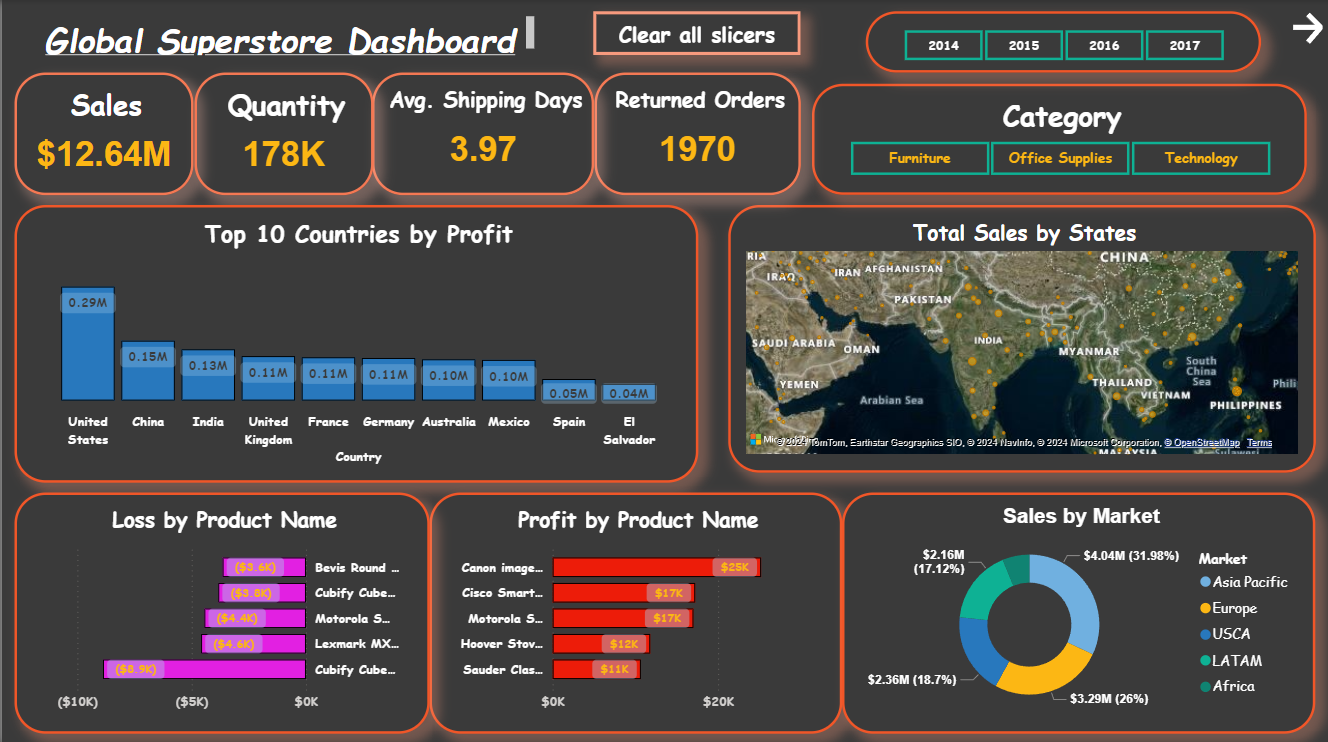

The dashboard page shown, as its layout file describes it:
{"tool":"powerbi","page":{"name":"Summary","canvas":[1280,720],"ordinal":4},"visuals":[{"type":"map","title":"Total Sales by States","fields":{"Category":["Orders.State"],"Size":["Orders.Total sales"]},"box":[700.9,197.9,567,258.2],"z":0},{"type":"card","title":"Sales","fields":{"Values":["Orders.Total sales"]},"box":[12.1,70,172.5,118.2],"z":1000},{"type":"slicer","title":"Category","fields":{"Values":["Orders.Category"]},"box":[781.8,80.8,477.8,107.4],"z":2000},{"type":"card","title":"Returned Orders","fields":{"Values":["Count(Returns.Order ID)"]},"box":[571.9,70,199.1,118.2],"z":3000},{"type":"card","title":"Avg. Shipping Days","fields":{"Values":["Avg(Orders.Shipment Time)"]},"box":[357.1,70,214.7,118.2],"z":4000},{"type":"card","title":"Quantity","fields":{"Values":["Sum(Orders.Quantity)"]},"box":[185.8,70,172.5,118.2],"z":5000},{"type":"columnChart","title":"Top 10 Countries by Profit","fields":{"Category":["Orders.Country"],"Y":["Orders.Total profits"]},"box":[12.1,197.9,659.9,267.8],"z":6000},{"type":"barChart","title":"Profit by Product Name","fields":{"Category":["Orders.Product Name"],"Y":["Sum(Orders.Profit)"]},"box":[412.6,475.3,398.1,232.8],"z":7000},{"type":"barChart","title":"Loss by Product Name","fields":{"Category":["Orders.Product Name"],"Y":["Sum(Orders.Profit)"]},"box":[12.1,475.3,400.5,232.8],"z":8000},{"type":"textbox","box":[26.5,10.9,492.2,47.1],"z":9000},{"type":"actionButton","box":[1240.2,7.2,38.6,39.8],"z":10000},{"type":"donutChart","title":"Sales by Market","fields":{"Y":["Sum(Orders.Sales)"],"Category":["Orders.Market"]},"box":[811,475,457,233],"z":11000},{"type":"slicer","fields":{"Values":["Orders.Order Date.Variation.Date Hierarchy.Year"]},"box":[833.7,10.9,381.2,59.1],"z":12000},{"type":"actionButton","box":[570.6,10.9,200.3,42.2],"z":12001}]}

Visuals, with their boxes in screenshot pixels (x1, y1, x2, y2), scaled from the page's 1280x720 canvas onto the 1328x742 screenshot:
"Total Sales by States" map: {"left": 727, "top": 204, "right": 1315, "bottom": 470}
"Sales" card: {"left": 13, "top": 72, "right": 192, "bottom": 194}
"Category" slicer: {"left": 811, "top": 83, "right": 1307, "bottom": 194}
"Returned Orders" card: {"left": 593, "top": 72, "right": 800, "bottom": 194}
"Avg. Shipping Days" card: {"left": 370, "top": 72, "right": 593, "bottom": 194}
"Quantity" card: {"left": 193, "top": 72, "right": 372, "bottom": 194}
"Top 10 Countries by Profit" columnChart: {"left": 13, "top": 204, "right": 697, "bottom": 480}
"Profit by Product Name" barChart: {"left": 428, "top": 490, "right": 841, "bottom": 730}
"Loss by Product Name" barChart: {"left": 13, "top": 490, "right": 428, "bottom": 730}
textbox: {"left": 27, "top": 11, "right": 538, "bottom": 60}
actionButton: {"left": 1287, "top": 7, "right": 1327, "bottom": 48}
"Sales by Market" donutChart: {"left": 841, "top": 490, "right": 1316, "bottom": 730}
slicer - Orders.Order Date.Variation.Date Hierarchy.Year: {"left": 865, "top": 11, "right": 1260, "bottom": 72}
actionButton: {"left": 592, "top": 11, "right": 800, "bottom": 55}
